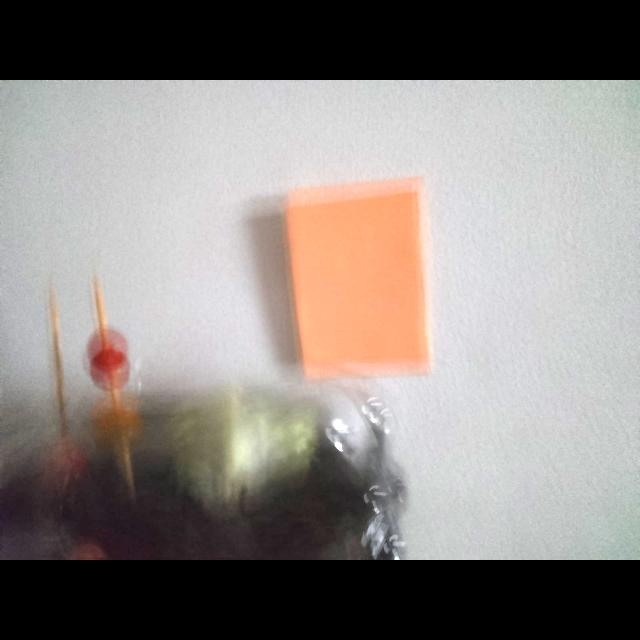card: (285, 178, 430, 377)
fully_grown: (87, 282, 130, 405)
